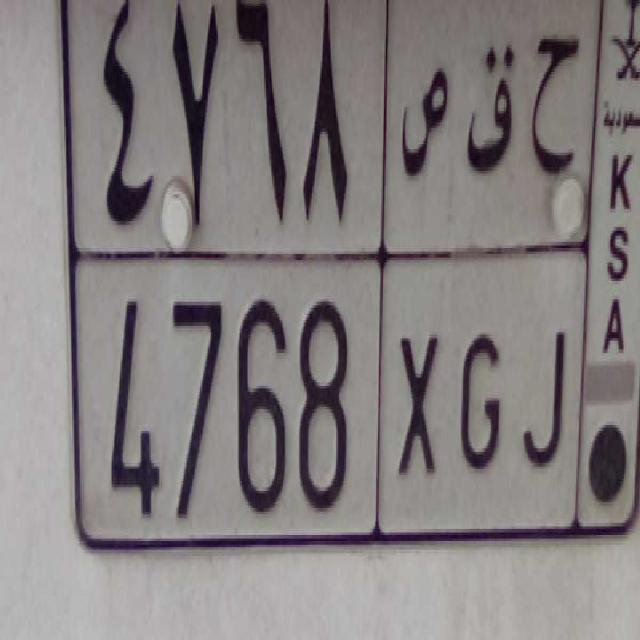license_plate: (74, 240, 580, 540)
